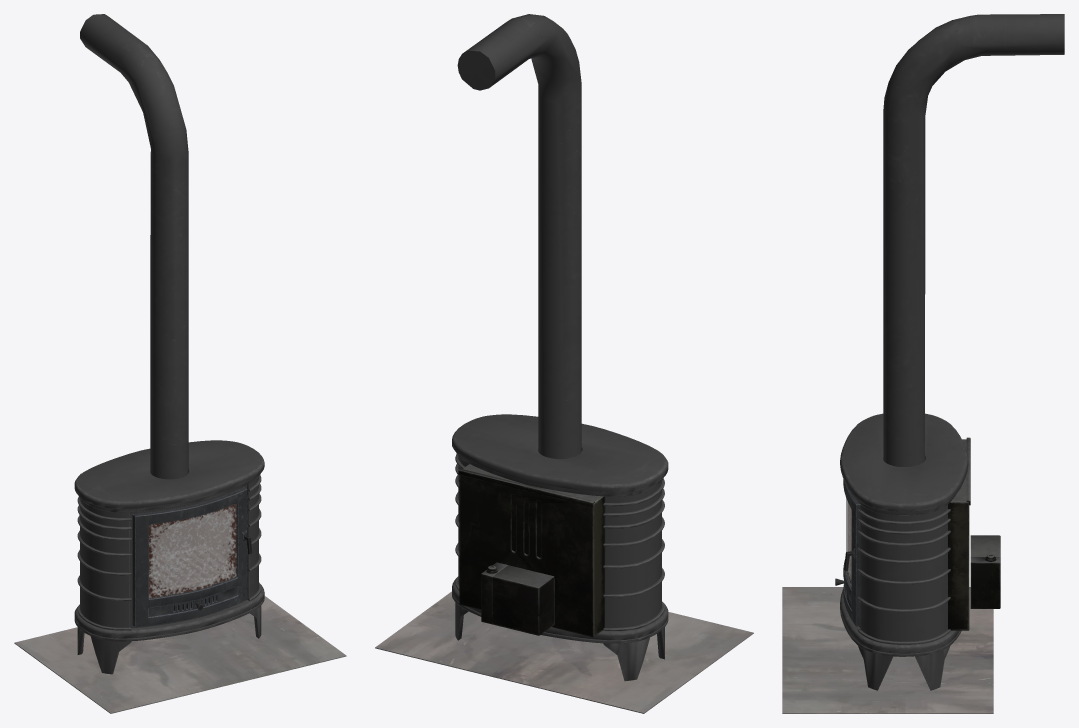
The model's file is wood-stove.glb.
The picture shows the model from 3 angles, left to right: view 1: azimuth 30°, elevation 25°; view 2: azimuth 150°, elevation 25°; view 3: azimuth 270°, elevation 25°; orthographic projection. The views are drawn at different scales.
Parts seen in each view (by area): view 1: Object_18, Object_12, Object_14, Object_6, Object_11, Object_4; view 2: Object_18, Object_16, Object_12, Object_14, Object_11; view 3: Object_18, Object_12, Object_14, Object_11, Object_16, Object_6.
Boxes of the visible parts, bbox=[...] form: Object_18: bbox=[80, 14, 188, 479]; Object_12: bbox=[14, 596, 346, 713]; Object_14: bbox=[74, 440, 264, 674]; Object_6: bbox=[132, 487, 247, 627]; Object_11: bbox=[80, 477, 258, 628]; Object_4: bbox=[149, 504, 236, 598]; Object_18: bbox=[457, 14, 581, 458]; Object_16: bbox=[458, 464, 604, 637]; Object_12: bbox=[375, 591, 753, 713]; Object_14: bbox=[452, 414, 668, 681]; Object_11: bbox=[458, 456, 661, 627]; Object_18: bbox=[883, 14, 1064, 466]; Object_12: bbox=[782, 587, 993, 713]; Object_14: bbox=[840, 413, 968, 690]; Object_11: bbox=[859, 505, 947, 641]; Object_16: bbox=[948, 437, 1000, 630]; Object_6: bbox=[843, 479, 860, 626].
Bounding box in the file's own units: 0.89 × 2.08 × 0.8418.
10 materials, 10 textured.
